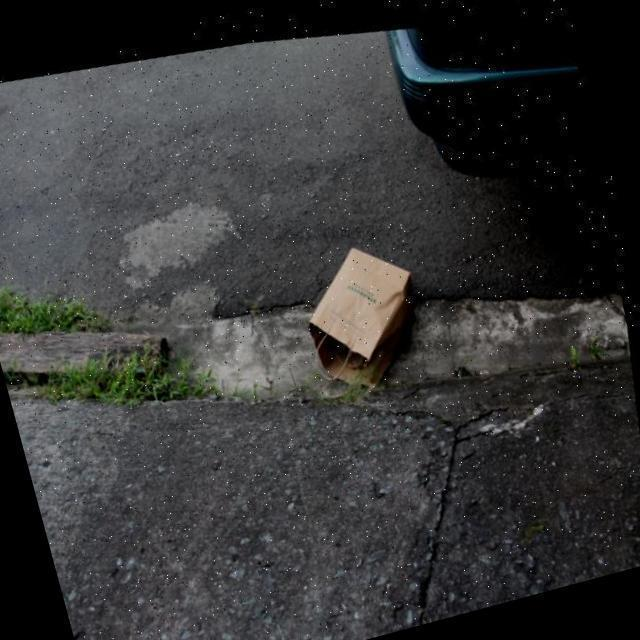Paper_Bag: (282, 215, 446, 406)
